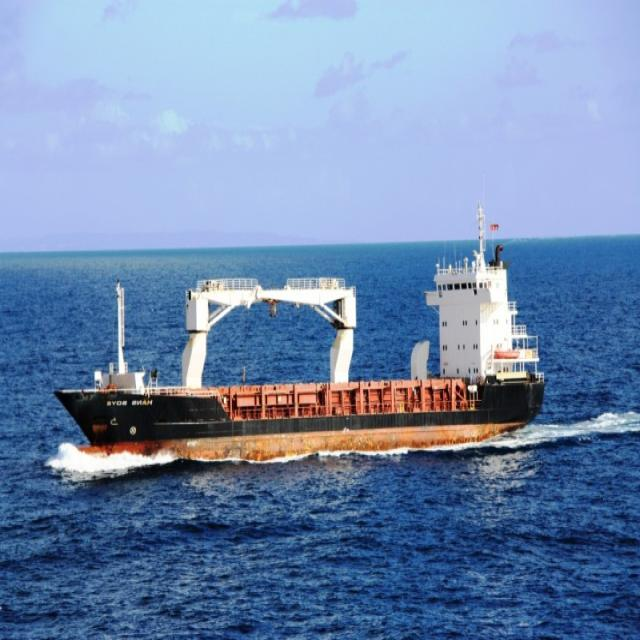PassengerShip: (37, 177, 576, 516)
